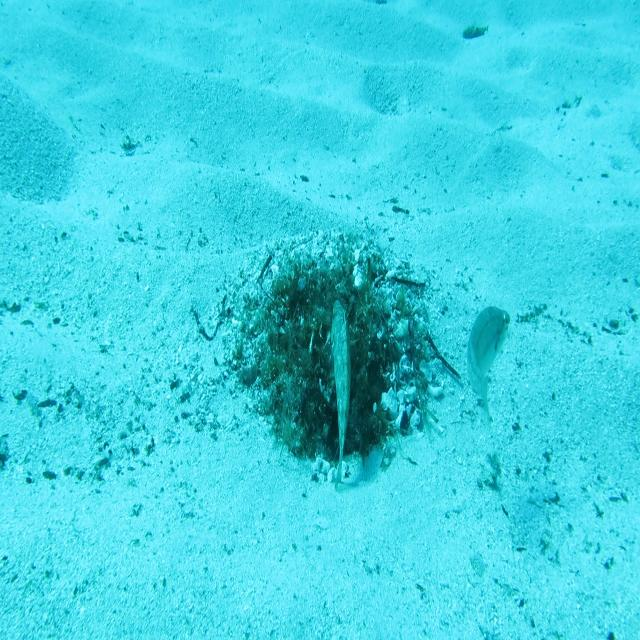FAN: (318, 298, 361, 492)
core_nest: (302, 284, 353, 316)
female: (464, 303, 512, 442)
nest: (213, 218, 455, 492)
vegetation: (461, 24, 490, 42)
